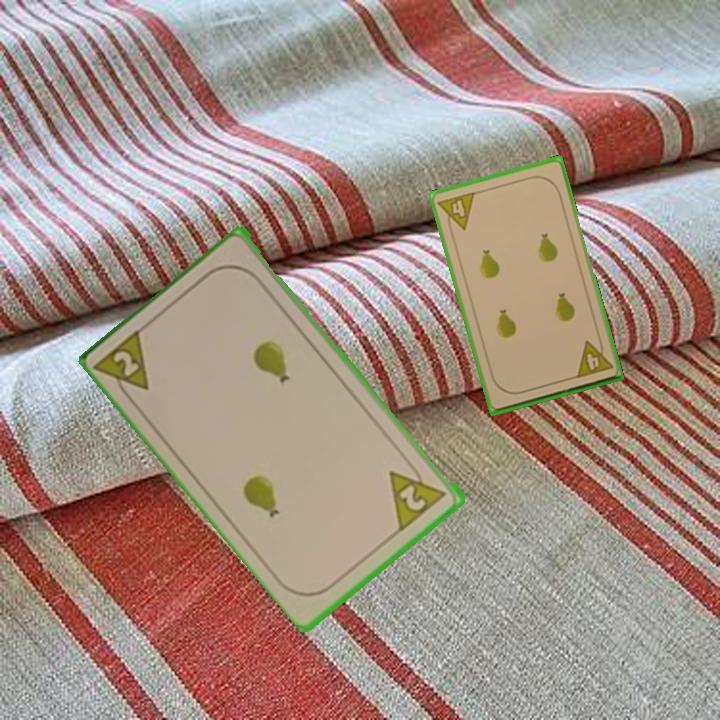2p: (92, 323, 153, 407), (396, 481, 430, 515)
4p: (434, 188, 478, 236), (572, 334, 616, 381)
